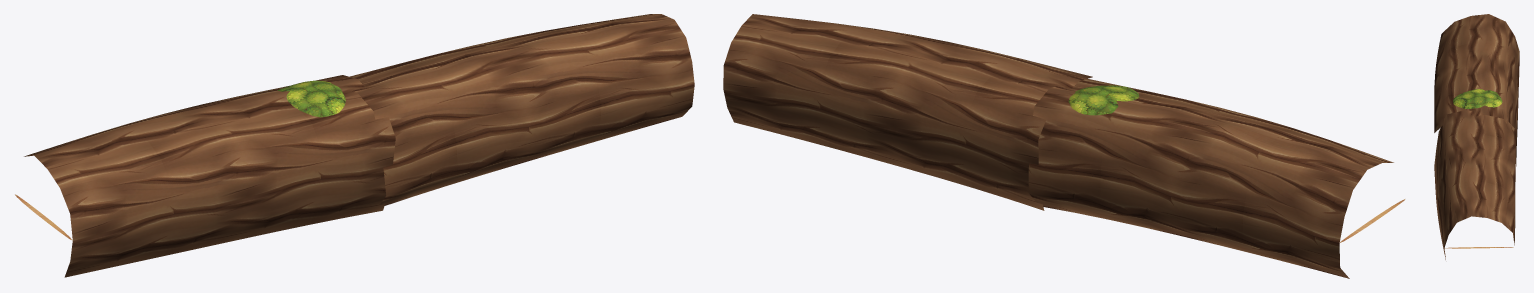
File: mossy_log1.gltf
3 renders of one model, left to right at view 1: azimuth 30°, elevation 25°; view 2: azimuth 150°, elevation 25°; view 3: azimuth 270°, elevation 25°, orthographic. The views are drawn at different scales.
Visible parts, largest first — view 1: mossy_log1_bark_LOD0, mossy_log1_moss_LOD0; view 2: mossy_log1_bark_LOD0, mossy_log1_moss_LOD0; view 3: mossy_log1_bark_LOD0, mossy_log1_moss_LOD0, mossy_log1_cap_LOD0.
Boxes of the visible parts, <box> form: mossy_log1_bark_LOD0: <box>24,14,694,277</box>; mossy_log1_moss_LOD0: <box>277,80,345,117</box>; mossy_log1_bark_LOD0: <box>723,14,1393,278</box>; mossy_log1_moss_LOD0: <box>1068,85,1139,115</box>; mossy_log1_bark_LOD0: <box>1434,14,1519,259</box>; mossy_log1_moss_LOD0: <box>1453,89,1502,108</box>; mossy_log1_cap_LOD0: <box>1445,247,1513,248</box>.
Size of what is drawn, in the model's own units: 2.58 by 0.4835 by 0.472.
Materials: 3 (3 with a texture image).
